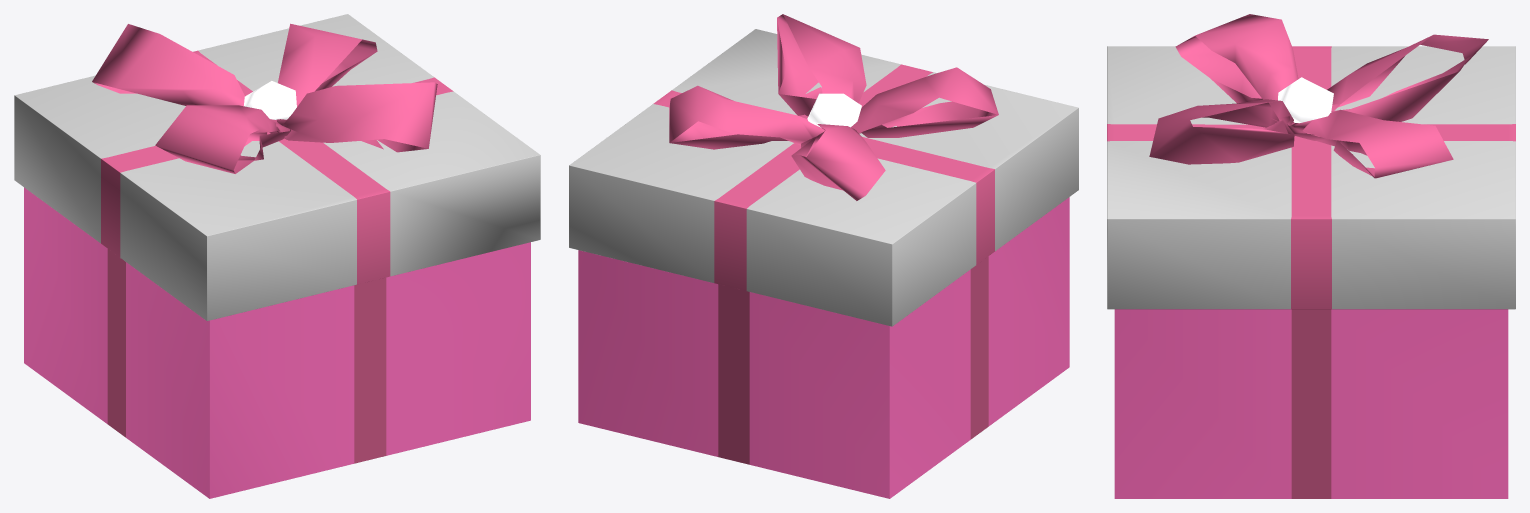
3 views of the same model, side by side, from view 1: azimuth 30°, elevation 25°; view 2: azimuth 150°, elevation 25°; view 3: azimuth 270°, elevation 25° (orthographic). The views are drawn at different scales.
Parts seen in each view (by area): view 1: Christmas Ribbon Gift.001; view 2: Christmas Ribbon Gift.001; view 3: Christmas Ribbon Gift.001.
Boxes of the visible parts, bbox=[...] form: Christmas Ribbon Gift.001: bbox=[14, 14, 540, 498]; Christmas Ribbon Gift.001: bbox=[569, 14, 1078, 498]; Christmas Ribbon Gift.001: bbox=[1107, 14, 1515, 498].
Bounding box in the file's own units: 0.3026 × 0.2863 × 0.3026.
